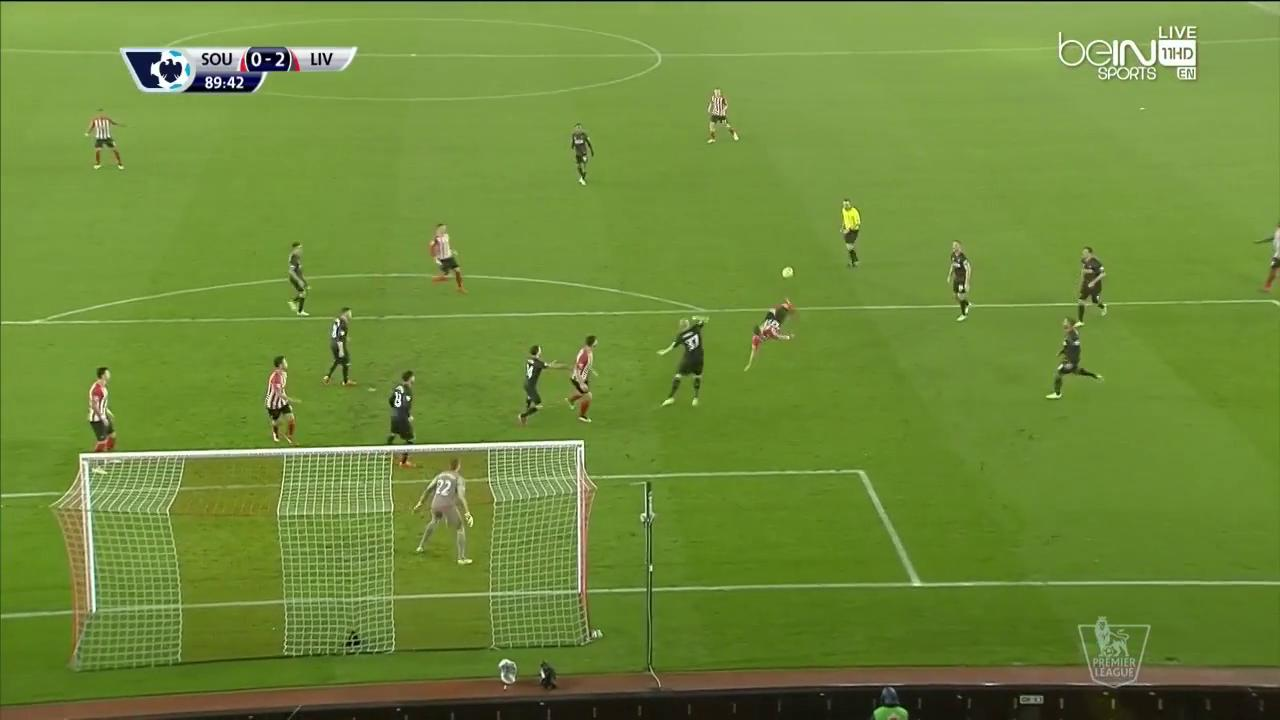football: (780, 265, 797, 281)
